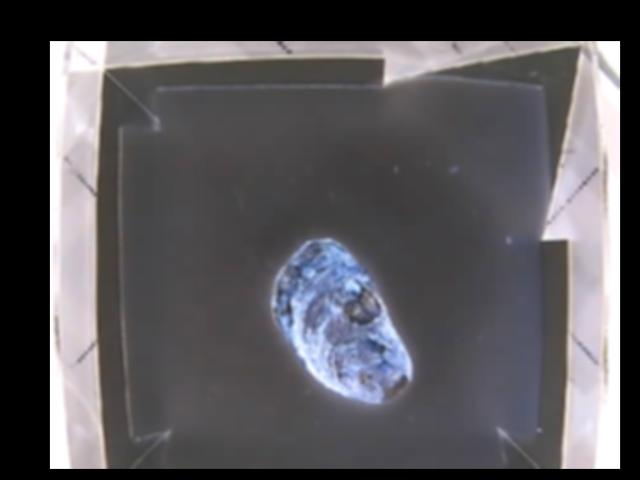Shell: (274, 237, 415, 400)
